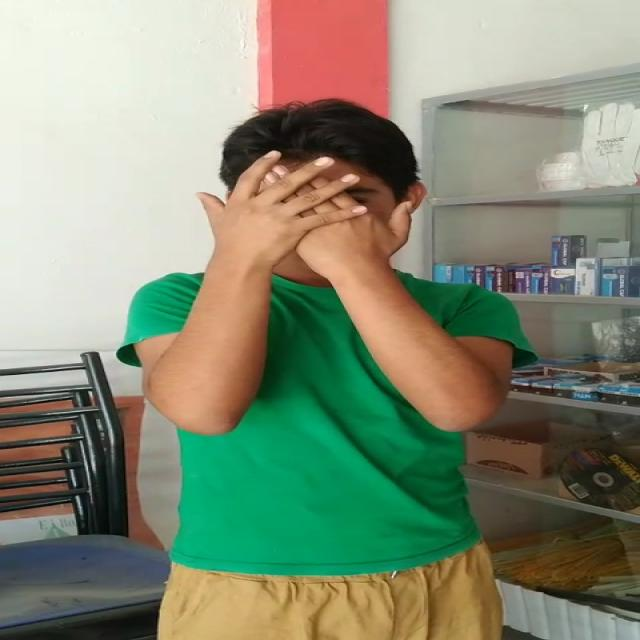7_mano_rostro: (195, 152, 411, 304)
